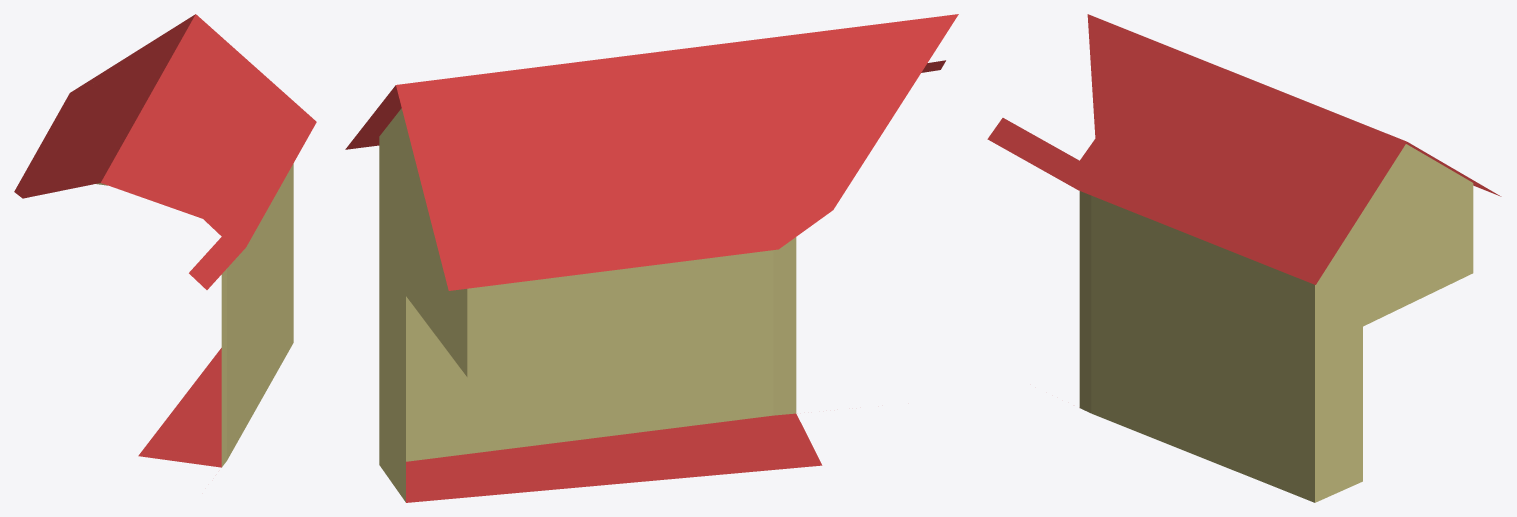
3 views of the same model, side by side, from view 1: azimuth 30°, elevation 25°; view 2: azimuth 150°, elevation 25°; view 3: azimuth 270°, elevation 25° (orthographic). The views are drawn at different scales.
Size of the model in its own units: 14.43 by 18.63 by 13.28.
